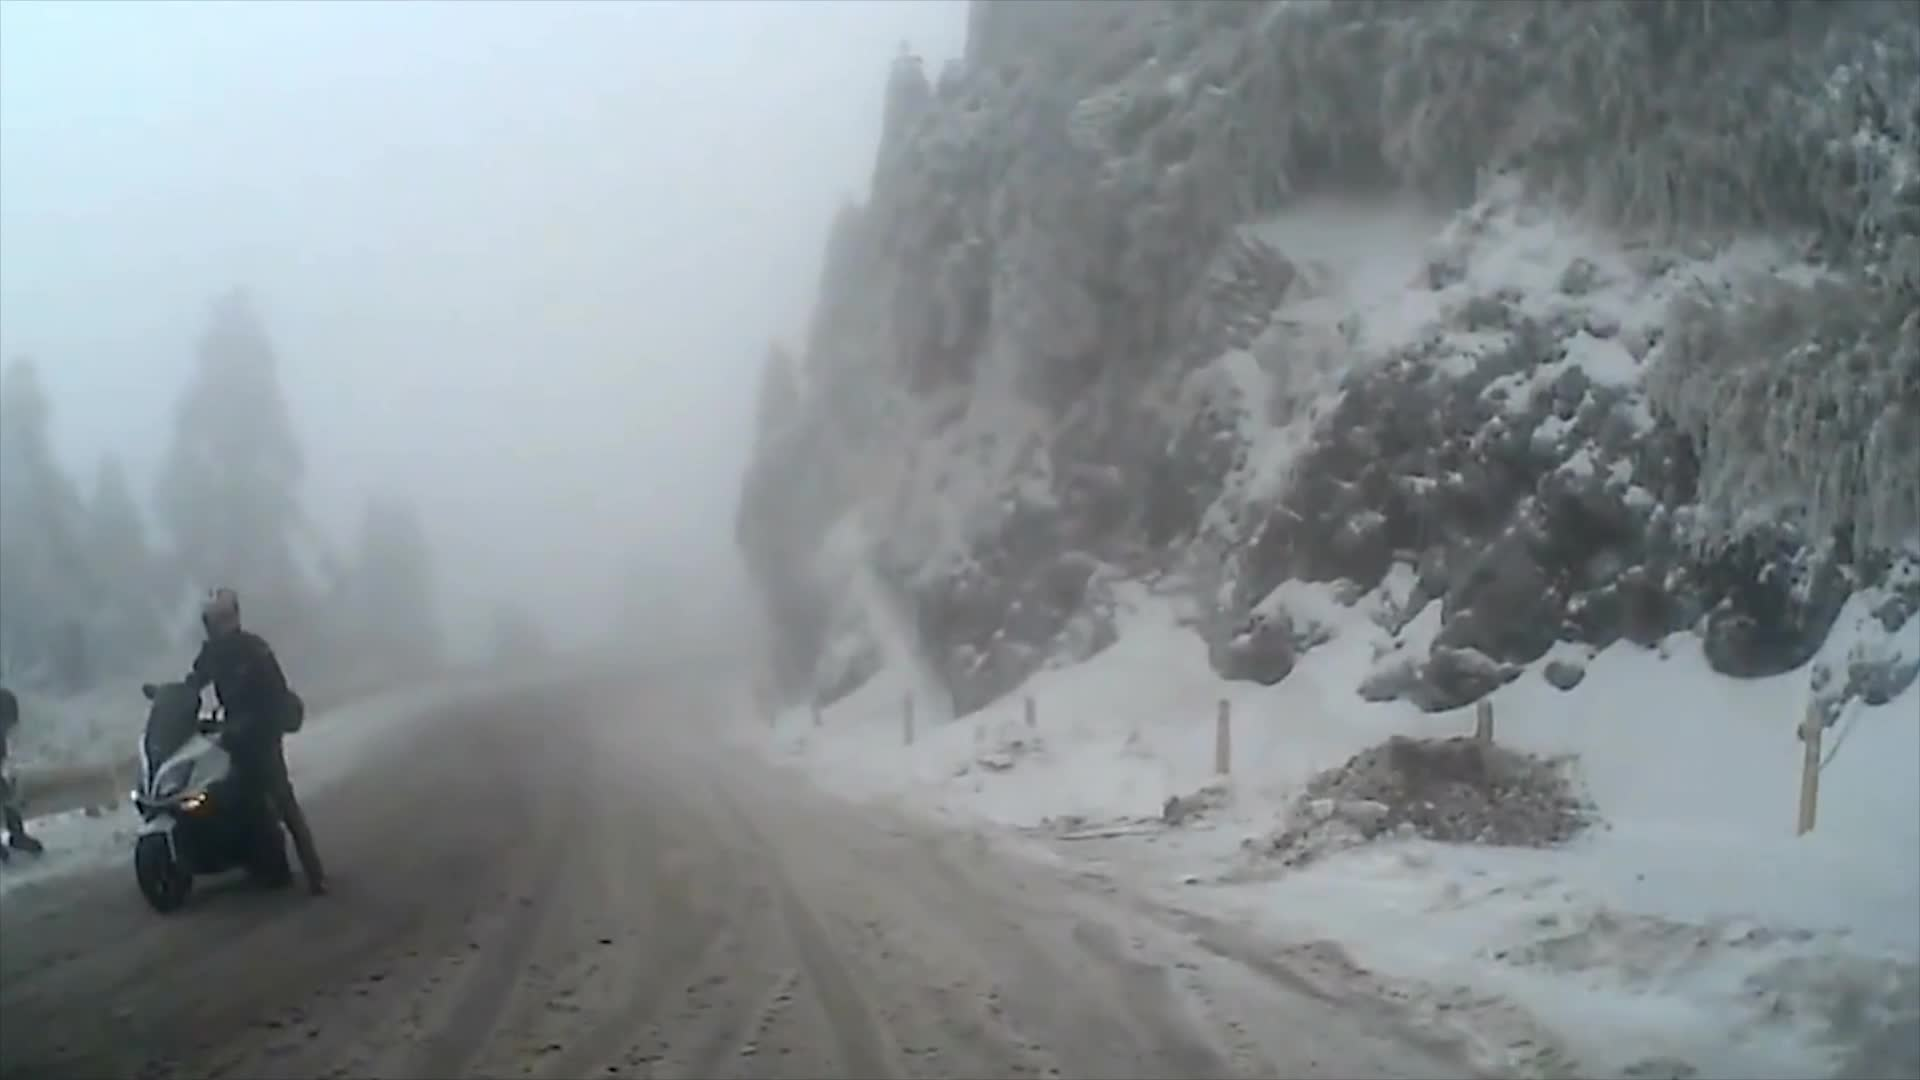pedestrian: (151, 575, 329, 900), (1, 693, 43, 866)
